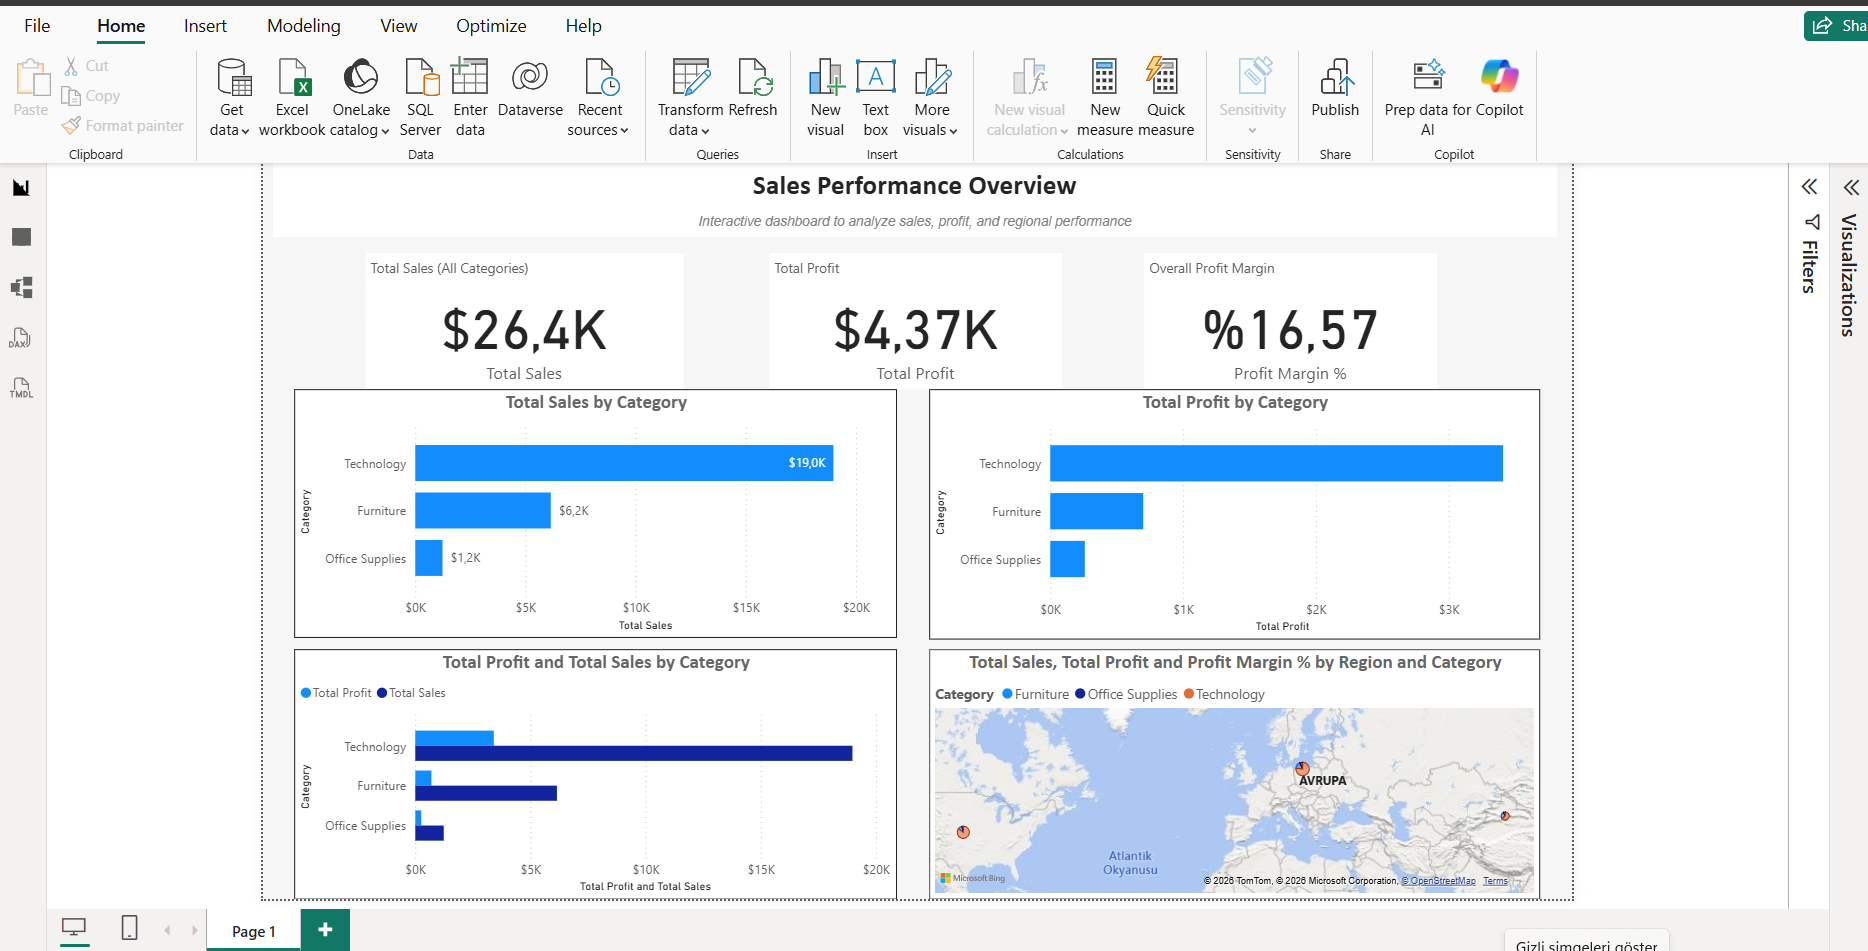

The page's visual inventory and layout, read from the dashboard file:
{"tool":"powerbi","page":{"name":"Page 1","canvas":[1280,720],"ordinal":0},"visuals":[{"type":"textbox","box":[9.5,0,1255.9,43.3],"z":0},{"type":"card","fields":{"Values":["sales_data.Total Sales"]},"box":[100,87.9,310.9,133.8],"z":1000},{"type":"card","fields":{"Values":["sales_data.Total Profit"]},"box":[494.8,87.9,286.6,133.8],"z":2000},{"type":"card","fields":{"Values":["sales_data.Profit Margin %"]},"box":[862.5,87.9,286.6,133.8],"z":3000},{"type":"clusteredBarChart","fields":{"Category":["sales_data.Category"],"Y":["sales_data.Total Sales"]},"box":[31.1,221.7,589.4,243.3],"z":4000},{"type":"clusteredBarChart","fields":{"Category":["sales_data.Category"],"Y":["sales_data.Total Profit"]},"box":[651.6,221.7,597.6,244.7],"z":5000},{"type":"clusteredBarChart","fields":{"Category":["sales_data.Category"],"Y":["sales_data.Total Profit","sales_data.Total Sales"]},"box":[31.1,475.9,589.4,244.7],"z":6000},{"type":"map","title":"Total Sales, Total Profit and Profit Margin % by Region and Category","fields":{"Category":["sales_data.Region"],"Size":["sales_data.Total Profit"],"Series":["sales_data.Category"]},"box":[651.6,475.9,597.6,244.7],"z":7000},{"type":"textbox","box":[9.5,43.3,1255.9,29.7],"z":8000}]}

Visuals, with their boxes on the page's 1280x720 design canvas (x1, y1, x2, y2). These are canvas units, not pixel positions in the 1868x951 screenshot, which may show the page scaled, cropped or inside an application window:
textbox: Rect(10, 0, 1265, 43)
card - sales_data.Total Sales: Rect(100, 88, 411, 222)
card - sales_data.Total Profit: Rect(495, 88, 781, 222)
card - sales_data.Profit Margin %: Rect(862, 88, 1149, 222)
clusteredBarChart - sales_data.Category x sales_data.Total Sales: Rect(31, 222, 620, 465)
clusteredBarChart - sales_data.Category x sales_data.Total Profit: Rect(652, 222, 1249, 466)
clusteredBarChart - sales_data.Category x sales_data.Total Profit: Rect(31, 476, 620, 721)
"Total Sales, Total Profit and Profit Margin % by Region and Category" map: Rect(652, 476, 1249, 721)
textbox: Rect(10, 43, 1265, 73)
